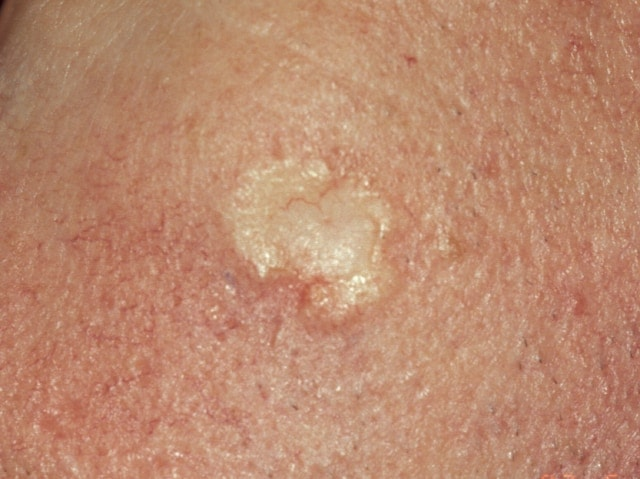Basa Cell Carcinoma: (186, 104, 441, 358)
